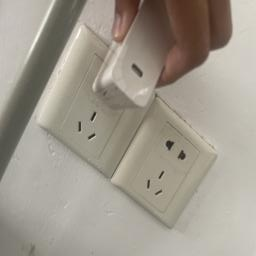outlet: (27, 23, 155, 177), (117, 92, 228, 232)
